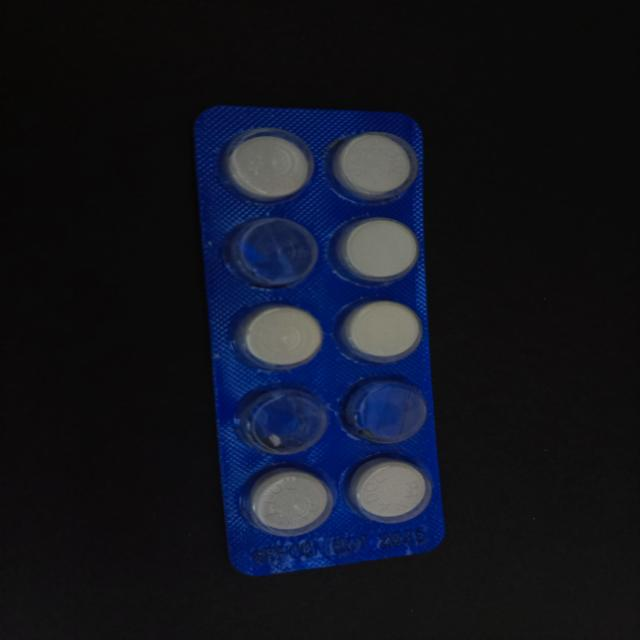defect: (221, 214, 322, 291), (231, 384, 333, 457), (339, 372, 431, 447)
